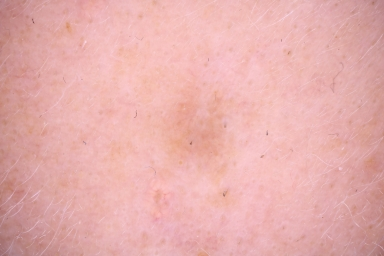melanoma: (168, 94, 227, 184)
